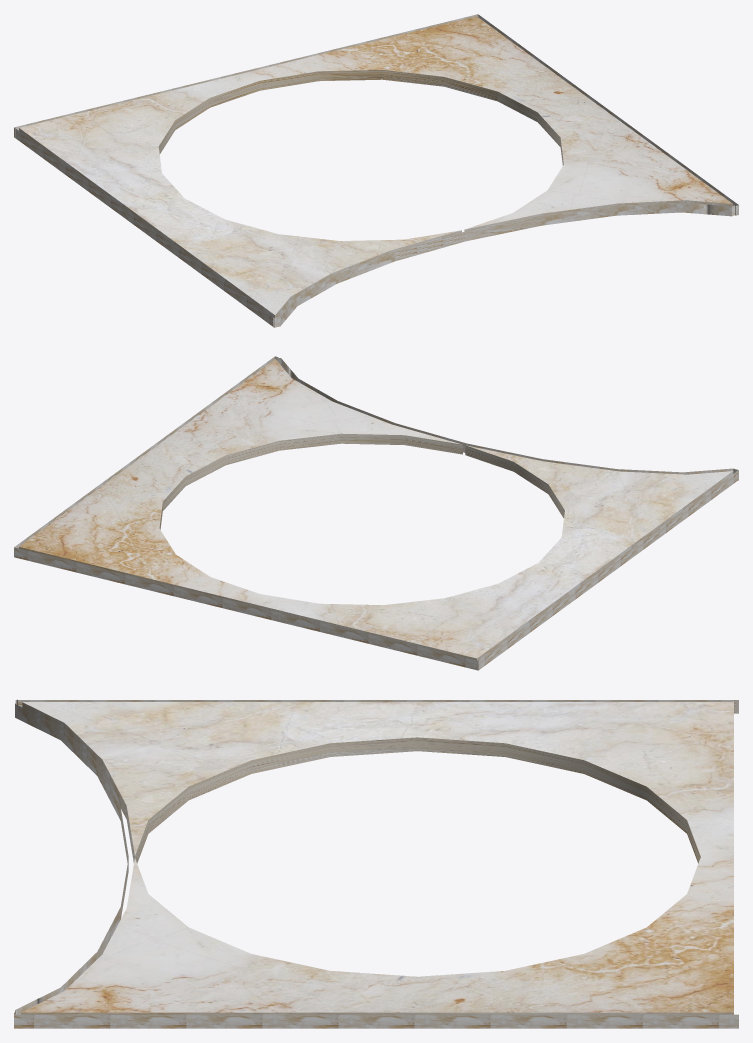
File: MarmolBeige.obj
3 views of the same model, one above another, from view 1: azimuth 30°, elevation 25°; view 2: azimuth 150°, elevation 25°; view 3: azimuth 270°, elevation 25° (orthographic). The views are drawn at different scales.
Visible parts, largest first — view 1: pasted__pCube1; view 2: pasted__pCube1; view 3: pasted__pCube1.
Boxes of the visible parts, left/top/right/bottom form: pasted__pCube1: left=14, top=14, right=738, bottom=327; pasted__pCube1: left=14, top=356, right=738, bottom=670; pasted__pCube1: left=14, top=699, right=738, bottom=1028.
Size of the model in its own units: 29343 by 600 by 28525.
Materials: 1 (1 with a texture image).
